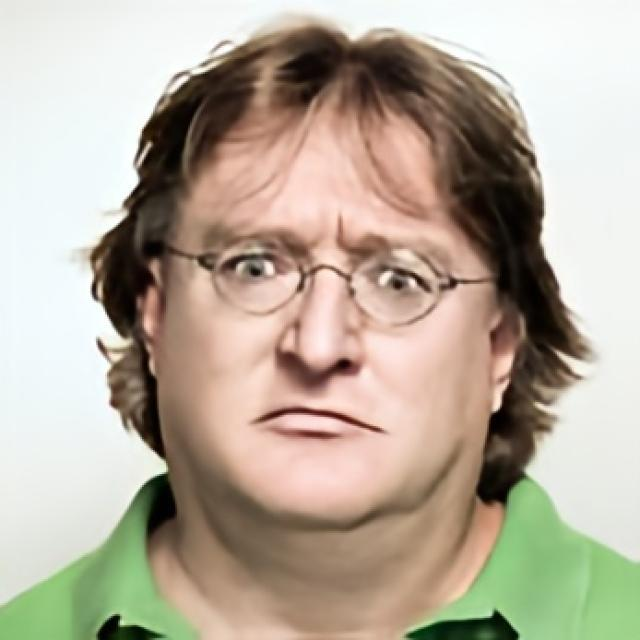fear: (158, 78, 490, 530)
